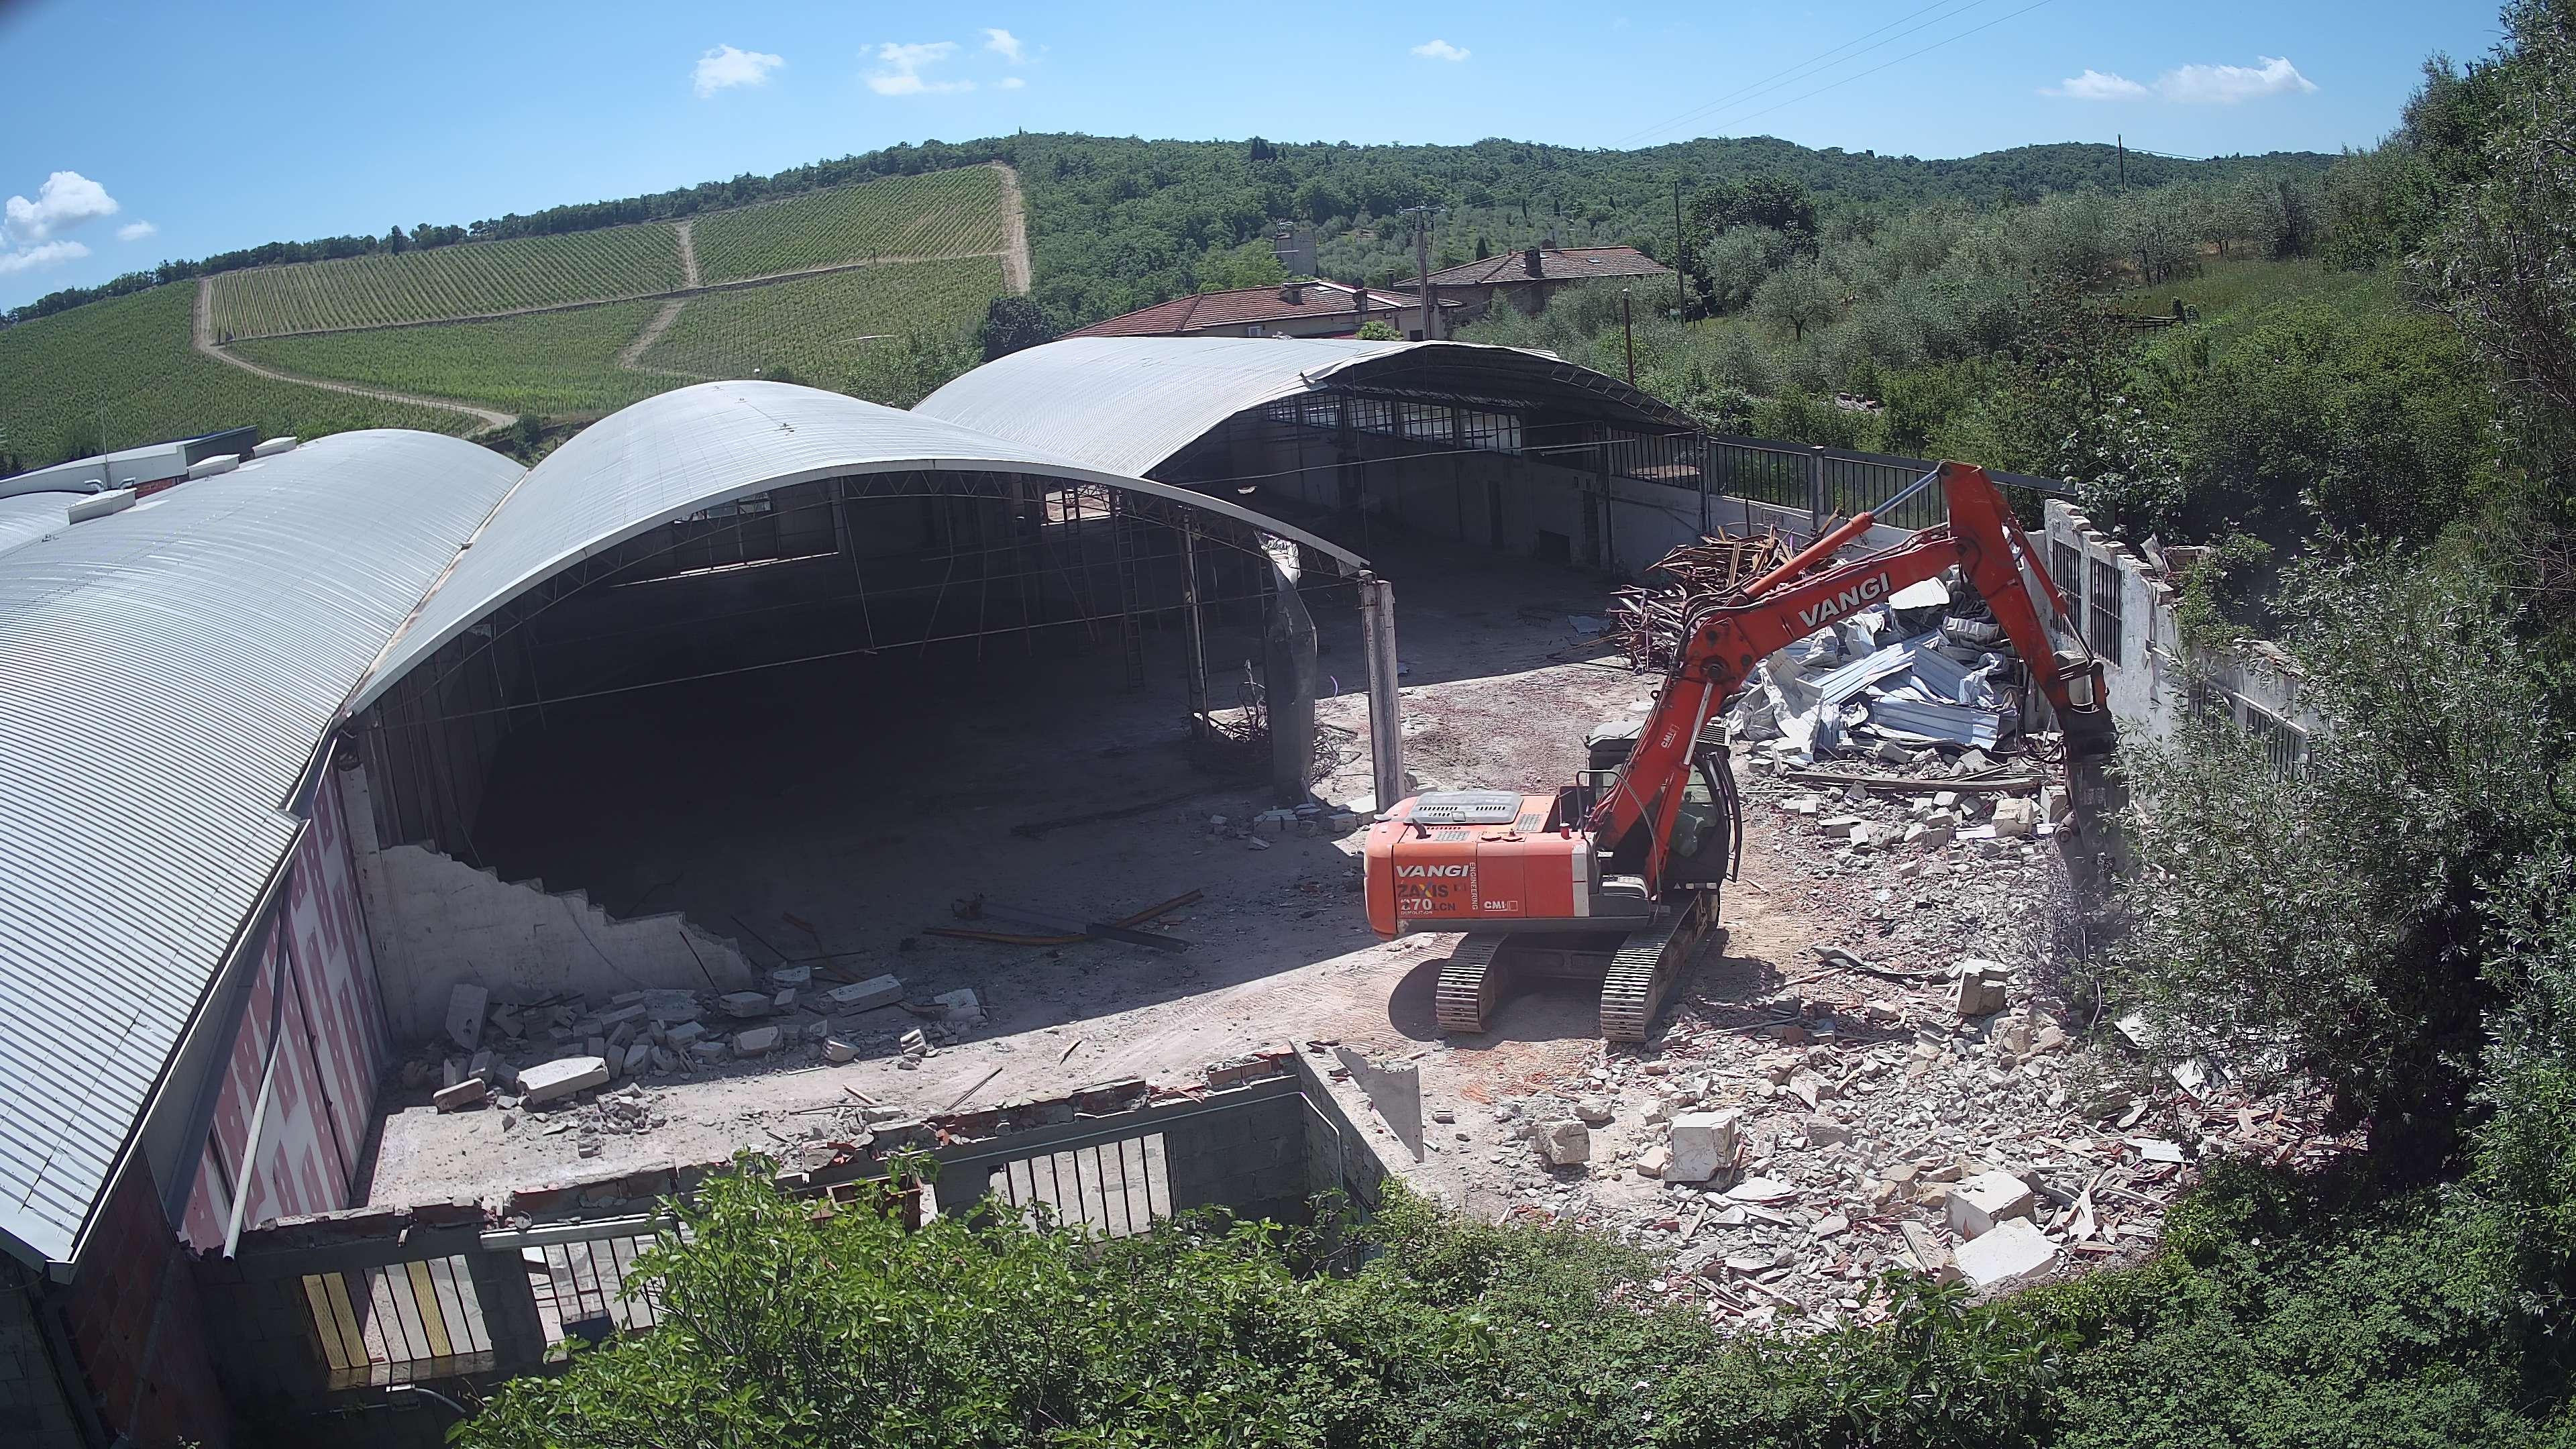excavator: (1362, 460, 2132, 1047)
